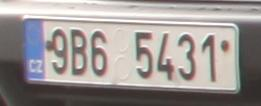1: (202, 35, 217, 82)
3: (178, 34, 196, 80)
4: (158, 33, 174, 80)
5: (135, 33, 152, 78)
6: (91, 30, 107, 77)
9: (52, 28, 67, 74)
B: (71, 29, 87, 75)
